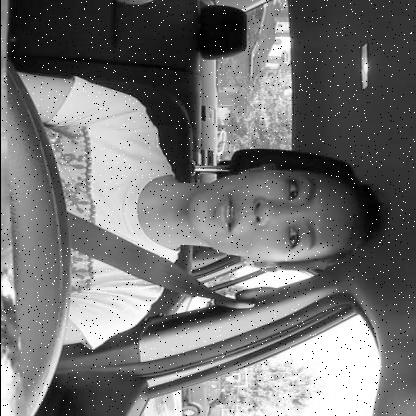seatbelt: (3, 147, 384, 317)
